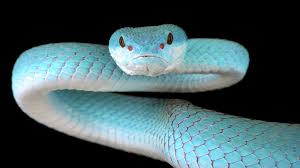snake: (105, 21, 189, 78)
